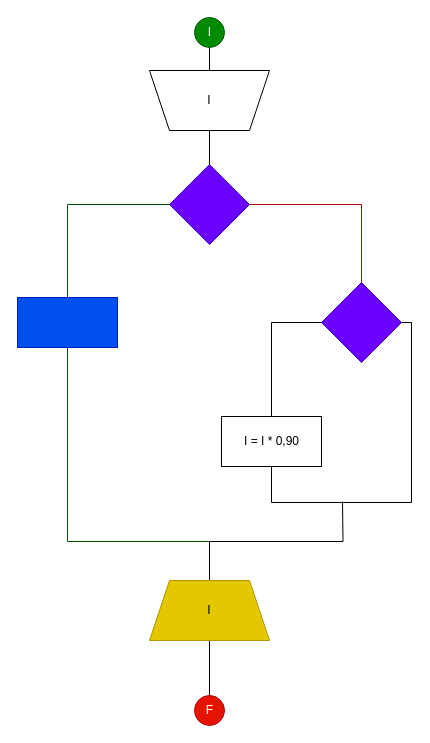
This 430x743 diagram has some shape labels left out. The shapes that lost their labels are listed below. From the top down, each one's centre as x and y in pixels, then its label:
At (209,204): "I >= 5000".
At (67,322): "I = I * 0,82".
At (361,322): "I >= 1000".
